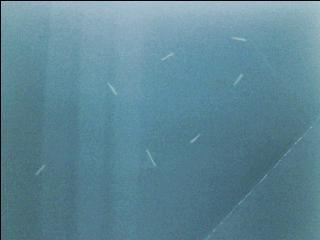crack: (203, 118, 320, 240)
scratch: (102, 78, 126, 101), (158, 47, 179, 67), (228, 31, 250, 47), (144, 148, 157, 168), (232, 73, 244, 87), (34, 163, 47, 175), (190, 133, 201, 143)
